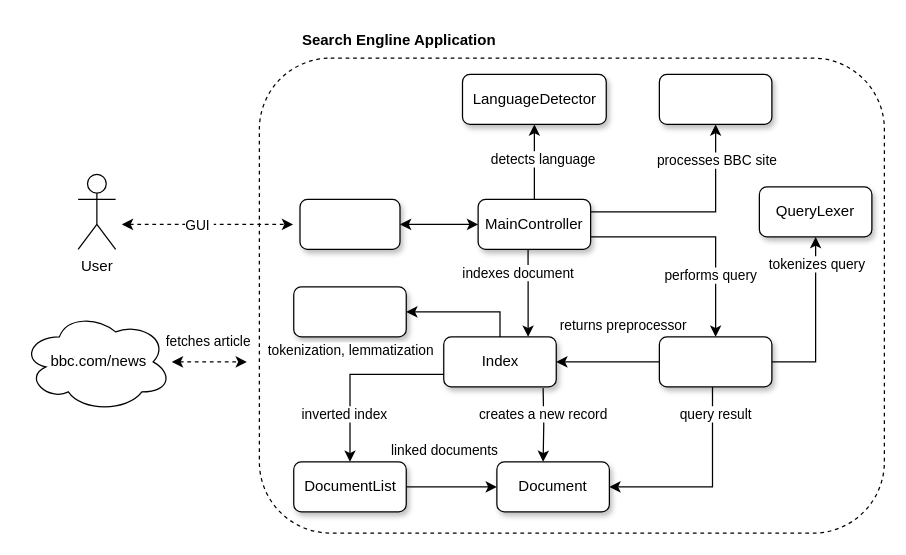
Image size: 906x555. Some labels were removed from this diagram. Each missing label, with the centre of its shape:
"Preprocessor" goes at (x=351, y=313).
"QueryParser" goes at (x=716, y=363).
"SiteProcessor" goes at (x=716, y=100).
"View (view.fxml)" goes at (x=351, y=225).
